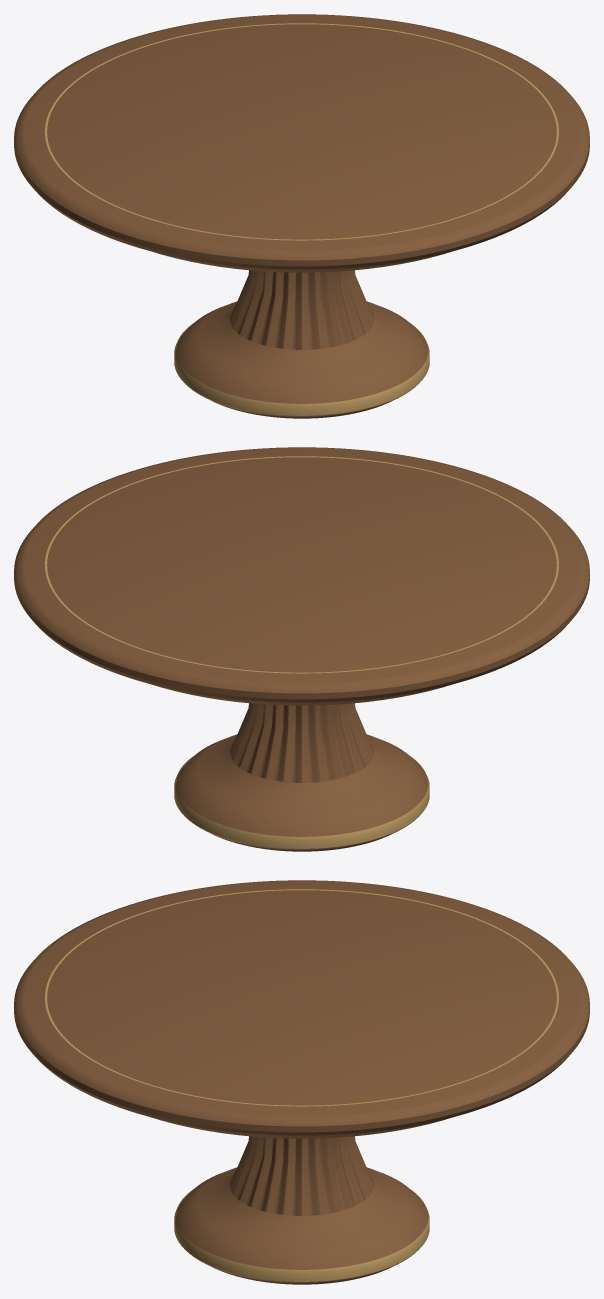
File: TableLOD0.fbx
The picture shows the model from 3 angles, top to bottom: view 1: azimuth 30°, elevation 25°; view 2: azimuth 150°, elevation 25°; view 3: azimuth 270°, elevation 25°; orthographic projection.
Parts seen in each view (by area): view 1: Table; view 2: Table; view 3: Table.
Boxes of the visible parts, x1,y1,x2,y2 form: Table: (14,14,589,418); Table: (14,447,589,851); Table: (14,880,589,1284).
Bounding box in the file's own units: 160 × 72.5 × 160.
